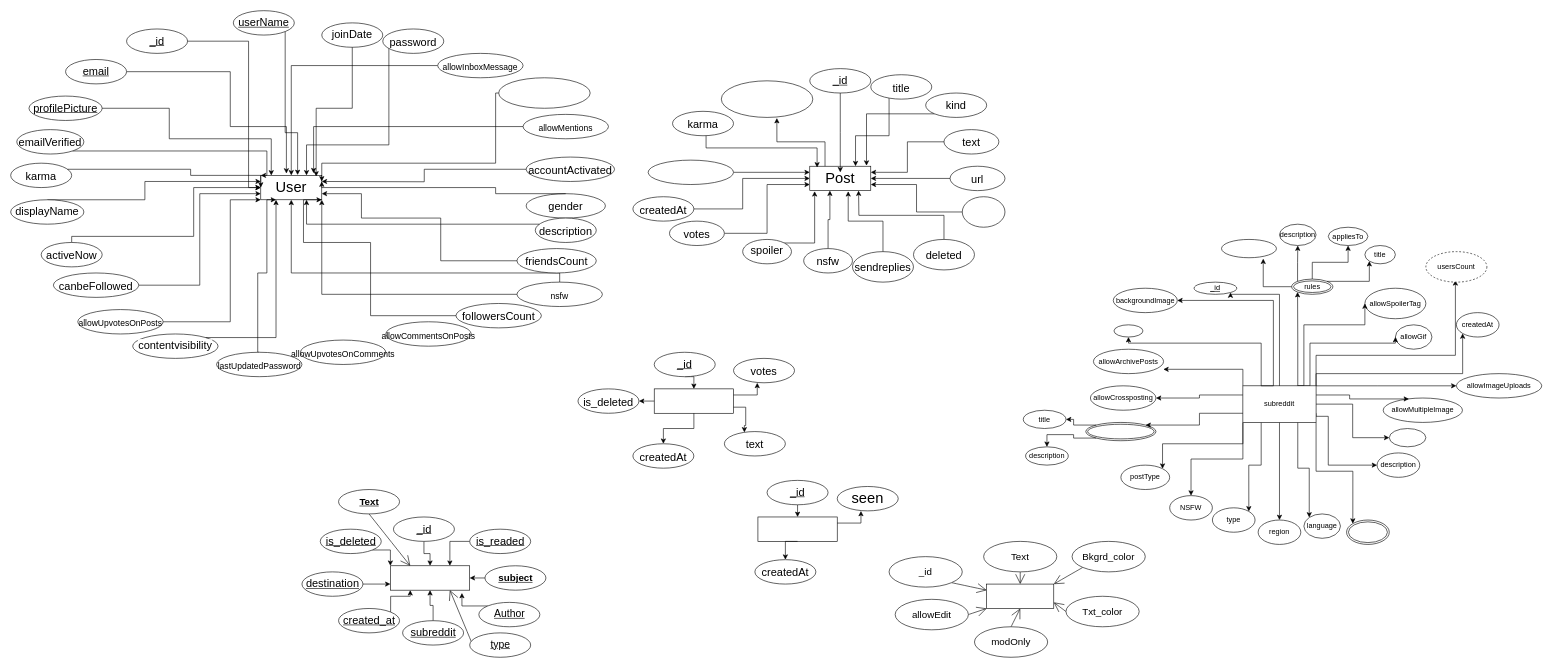
Some shapes in this 1552 by 668 pixel diagram are drawn without their labels. Here are the shapes that lost their labels. From the top down, the box of each, then its label:
(498, 77, 590, 108): passwordConfirm
(721, 80, 813, 117): comments_count
(648, 160, 734, 185): suggested_sort
(962, 196, 1005, 227): locked
(1221, 239, 1276, 258): defaultName
(1113, 324, 1143, 337): icon
(654, 388, 734, 413): Comment
(1085, 422, 1156, 441): removalReasons
(1389, 428, 1426, 447): name
(757, 516, 837, 541): Notification
(1346, 519, 1389, 544): topics
(390, 565, 470, 590): Messages
(986, 583, 1054, 608): Flair
